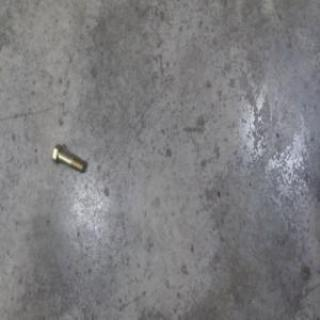Bolttrack_idkeyframe: (52, 142, 85, 174)
